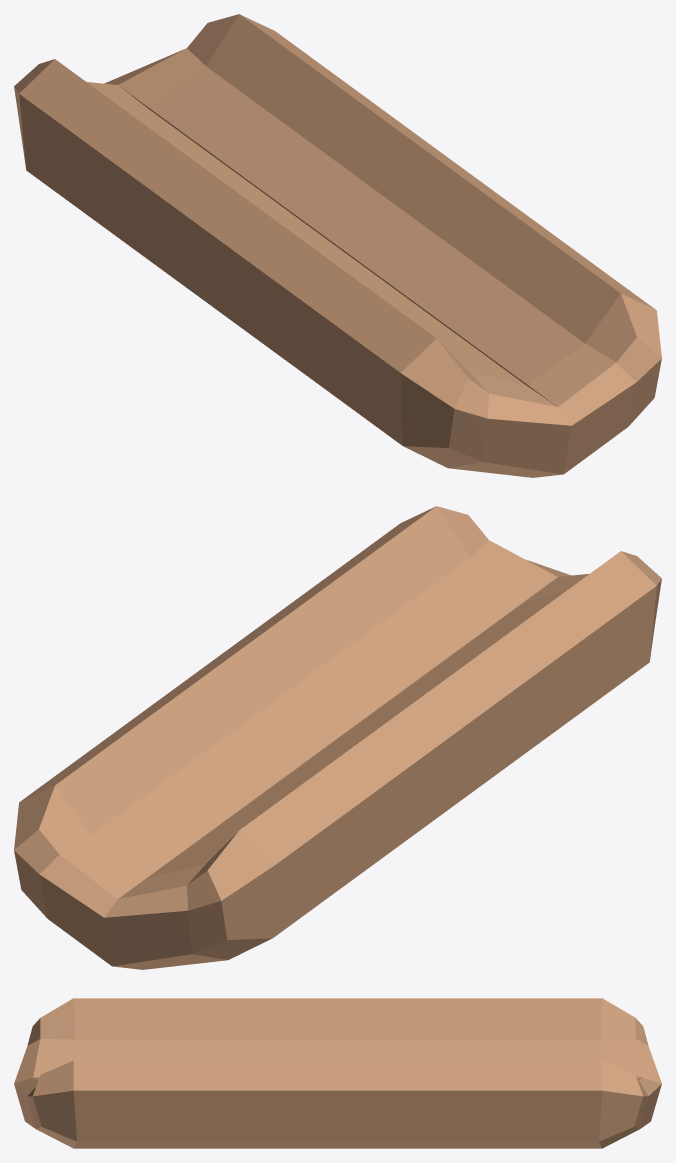
Rendered from Bunn.fbx.
The picture shows the model from 3 angles, top to bottom: view 1: azimuth 30°, elevation 25°; view 2: azimuth 150°, elevation 25°; view 3: azimuth 270°, elevation 25°; orthographic projection. The views are drawn at different scales.
Parts seen in each view (by area): view 1: HotDog_Bun; view 2: HotDog_Bun; view 3: HotDog_Bun.
Part boxes in pixels (x1,y1,x2,y2): HotDog_Bun: (14, 14, 661, 477); HotDog_Bun: (14, 506, 661, 969); HotDog_Bun: (14, 998, 661, 1148).
Bounding box in the file's own units: 5.68 × 3.37 × 17.96.
